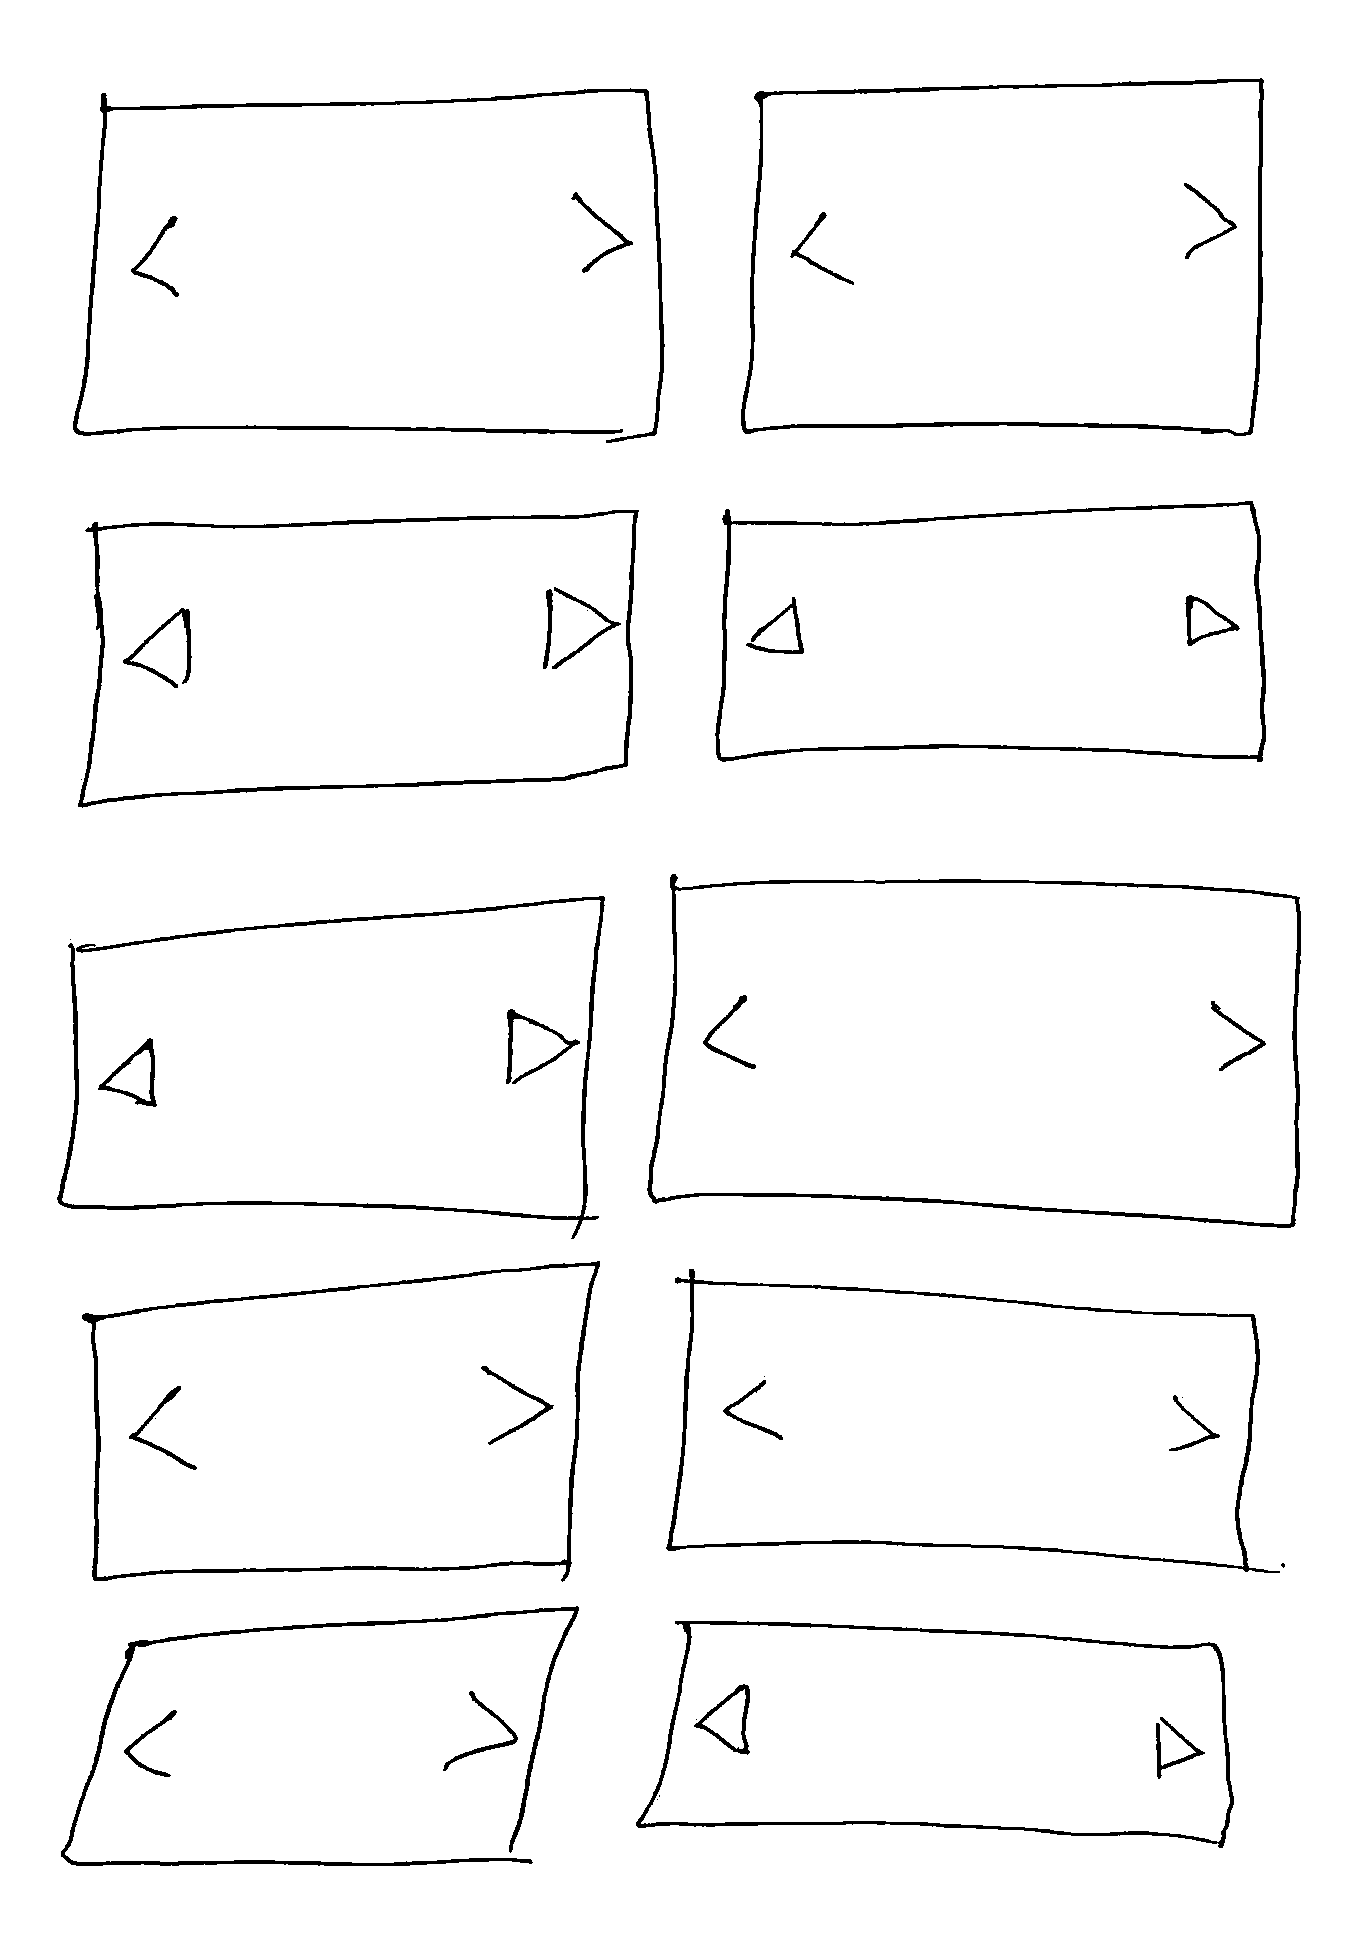Carousel: (648, 873, 1301, 1228), (72, 89, 664, 443), (667, 1269, 1291, 1574), (58, 896, 605, 1240), (741, 78, 1264, 437), (78, 510, 639, 807), (83, 1261, 600, 1581), (716, 501, 1265, 763), (637, 1621, 1234, 1847), (61, 1606, 580, 1867)
